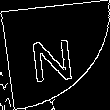N_N: (30, 27, 80, 83)
